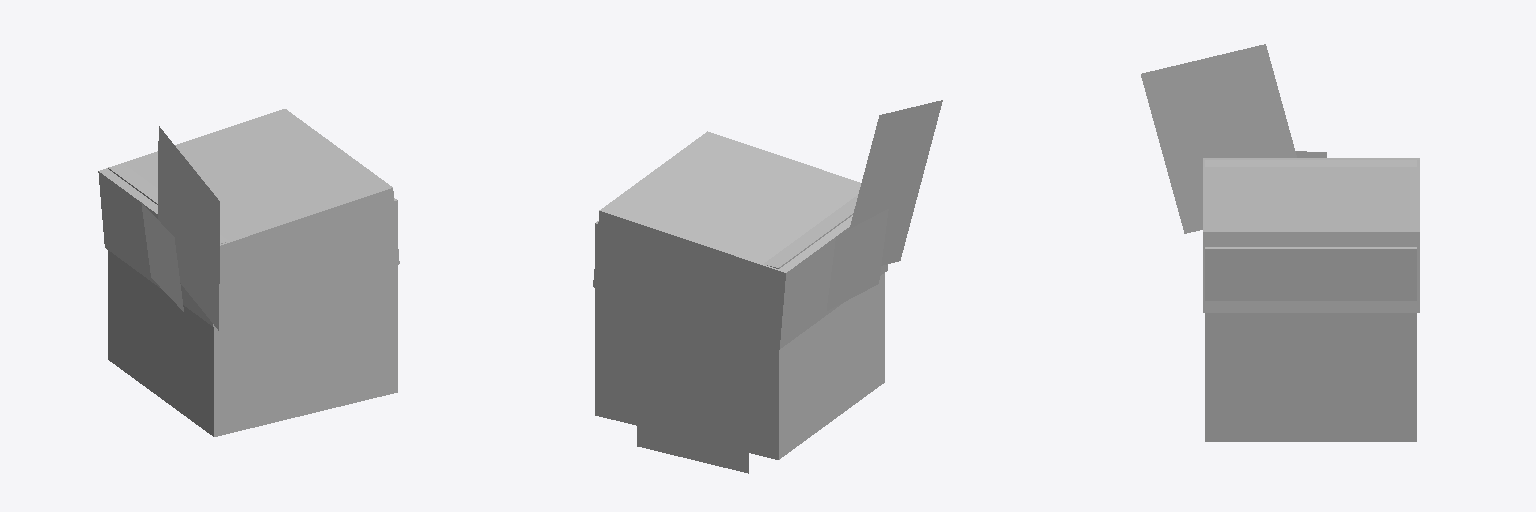
File: trader.obj
3 renders of one model, left to right at view 1: azimuth 30°, elevation 25°; view 2: azimuth 150°, elevation 25°; view 3: azimuth 270°, elevation 25°, orthographic.
Parts seen in each view (by area): view 1: Hat Layer 4, Hat Layer 6, Feather, Gem; view 2: Hat Layer 6, Hat Layer 4, Feather, Gem, Beard; view 3: Hat Layer 4, Hat Layer 6, Feather.
Part boxes in pixels (bbox=[...]): Hat Layer 4: bbox=[108, 164, 397, 436]; Hat Layer 6: bbox=[98, 109, 399, 326]; Feather: bbox=[158, 126, 219, 330]; Gem: bbox=[141, 202, 183, 311]; Hat Layer 6: bbox=[593, 131, 887, 349]; Hat Layer 4: bbox=[595, 195, 884, 459]; Feather: bbox=[849, 100, 942, 265]; Gem: bbox=[827, 209, 888, 310]; Beard: bbox=[637, 426, 748, 473]; Hat Layer 4: bbox=[1205, 160, 1416, 441]; Hat Layer 6: bbox=[1203, 158, 1419, 312]; Feather: bbox=[1141, 44, 1296, 233].
Bounding box in the file's own units: 0.7023 × 1.03 × 0.8058.